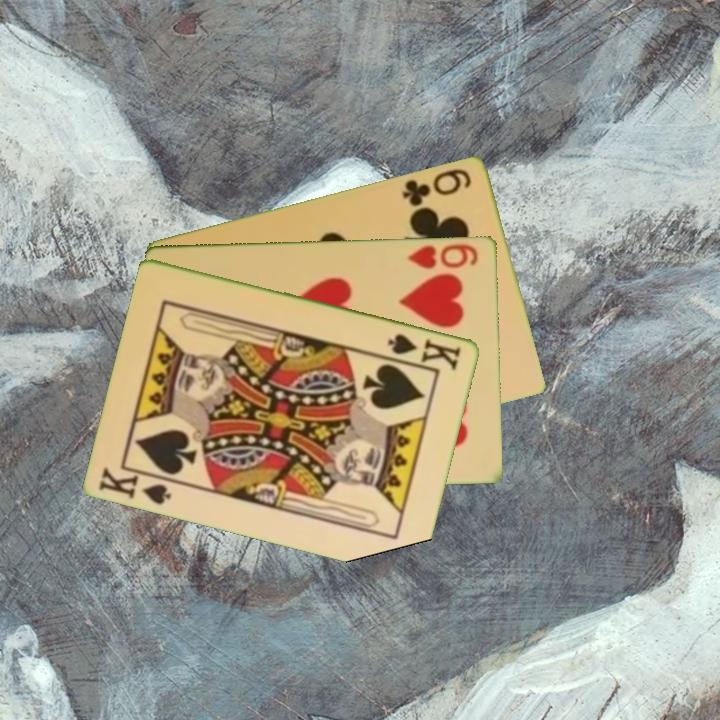6c: (399, 164, 475, 209)
6h: (405, 240, 481, 271)
Ks: (95, 463, 181, 508), (385, 330, 464, 373)
